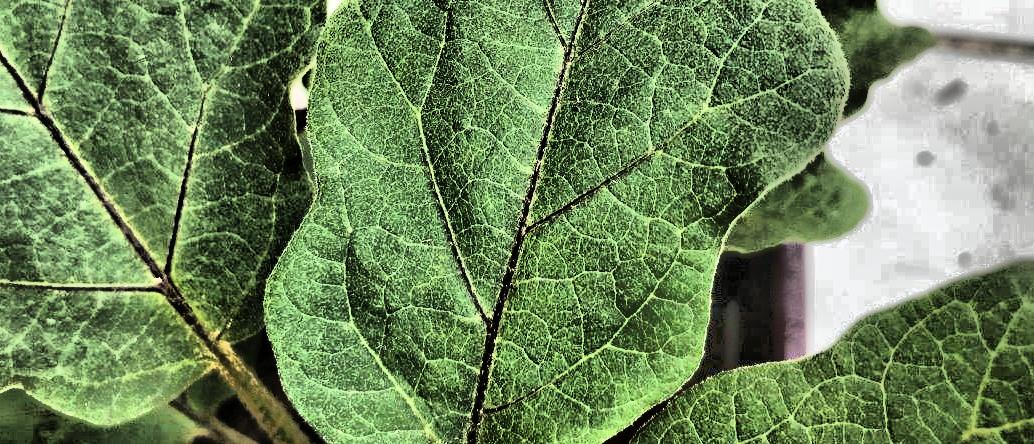HEALTHY: (0, 110, 732, 444)
